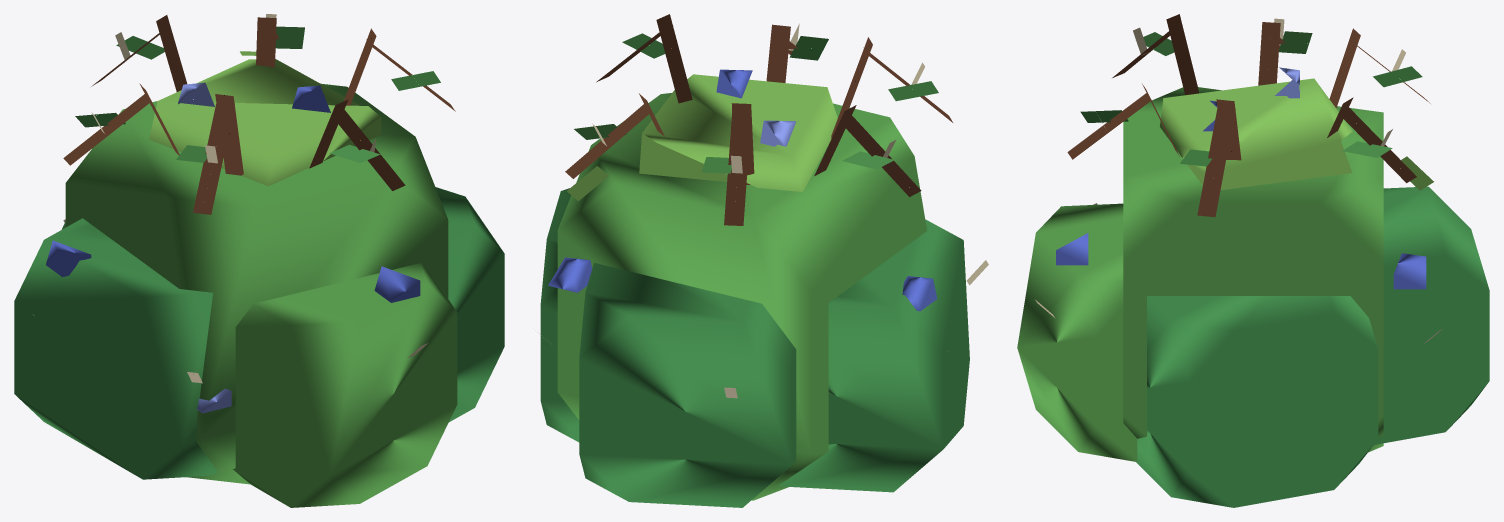
File: thorn-bush-pixor-blocky_lod2.glb
3 renders of one model, left to right at view 1: azimuth 30°, elevation 25°; view 2: azimuth 150°, elevation 25°; view 3: azimuth 270°, elevation 25°, orthographic. The views are drawn at different scales.
Parts seen in each view (by area): view 1: Thorn bush core, Thorn canes, Thorn berries, Thorn leaves, Thorns; view 2: Thorn bush core, Thorn canes, Thorn leaves, Thorn berries, Thorns; view 3: Thorn bush core, Thorn canes, Thorn leaves, Thorn berries, Thorns.
Boxes of the visible parts, box(x1,y1,x2,y2) form: Thorn bush core: box(14, 59, 504, 507); Thorn canes: box(63, 15, 455, 214); Thorn berries: box(46, 82, 420, 413); Thorn leaves: box(75, 26, 440, 162); Thorns: box(33, 14, 427, 383); Thorn bush core: box(540, 74, 969, 507); Thorn canes: box(565, 14, 952, 225); Thorn leaves: box(567, 33, 938, 201); Thorn berries: box(548, 69, 937, 311); Thorns: box(535, 23, 988, 398); Thorn bush core: box(1017, 78, 1489, 507); Thorn canes: box(1067, 14, 1430, 217); Thorn leaves: box(1080, 31, 1433, 190); Thorn berries: box(1056, 67, 1426, 289); Thorns: box(1035, 18, 1442, 343).
Size of the model in its own units: 1.04 by 0.86 by 1.02.
Materials: 1 (1 with a texture image).
